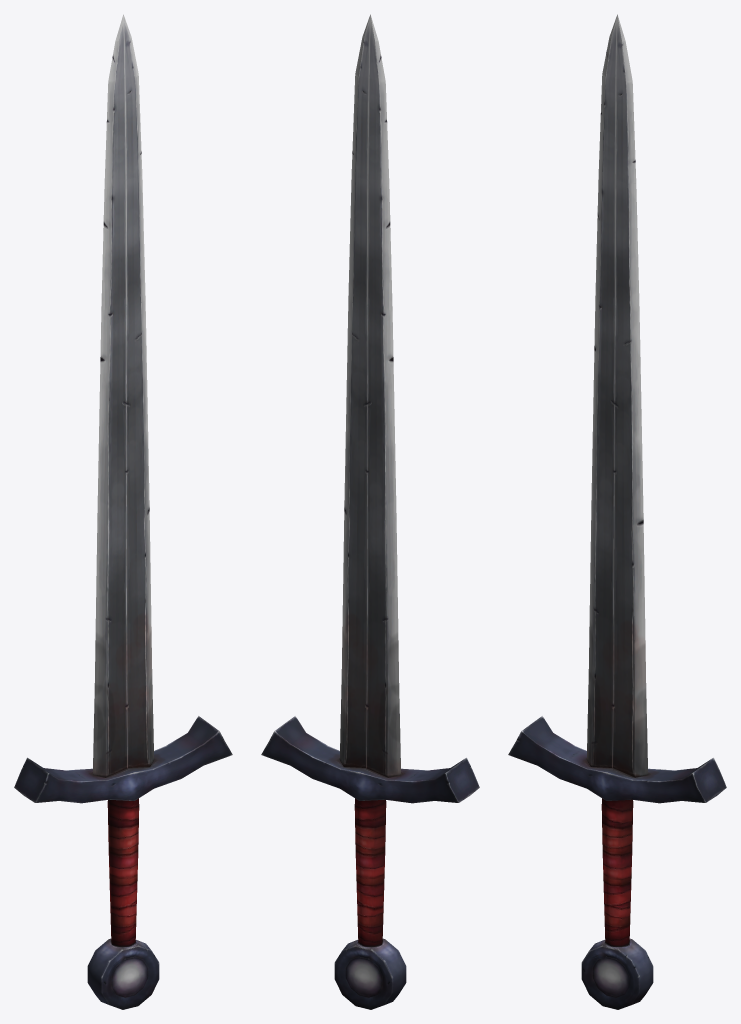
Rendered from Sword02.fbx.
The picture shows the model from 3 angles, left to right: view 1: azimuth 30°, elevation 25°; view 2: azimuth 150°, elevation 25°; view 3: azimuth 330°, elevation 25°; orthographic projection.
Visible parts, largest first — view 1: Sword02; view 2: Sword02; view 3: Sword02.
Part boxes in pixels (x1=…): Sword02: x1=14, y1=14, x2=232, y2=1009; Sword02: x1=261, y1=14, x2=479, y2=1009; Sword02: x1=508, y1=14, x2=726, y2=1009.
Bounding box in the file's own units: 0.254 × 1.21 × 0.0519.
